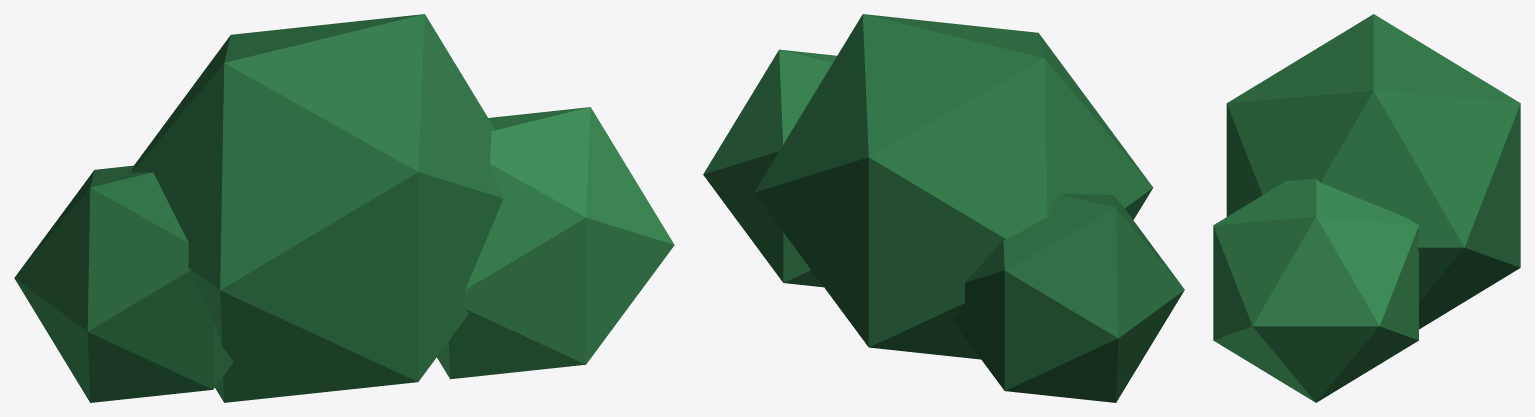
Rendered from buisson.glb.
The picture shows the model from 3 angles, left to right: view 1: azimuth 30°, elevation 25°; view 2: azimuth 150°, elevation 25°; view 3: azimuth 270°, elevation 25°; orthographic projection. The views are drawn at different scales.
Bounding box in the file's own units: 1.63 × 1.02 × 1.07.
